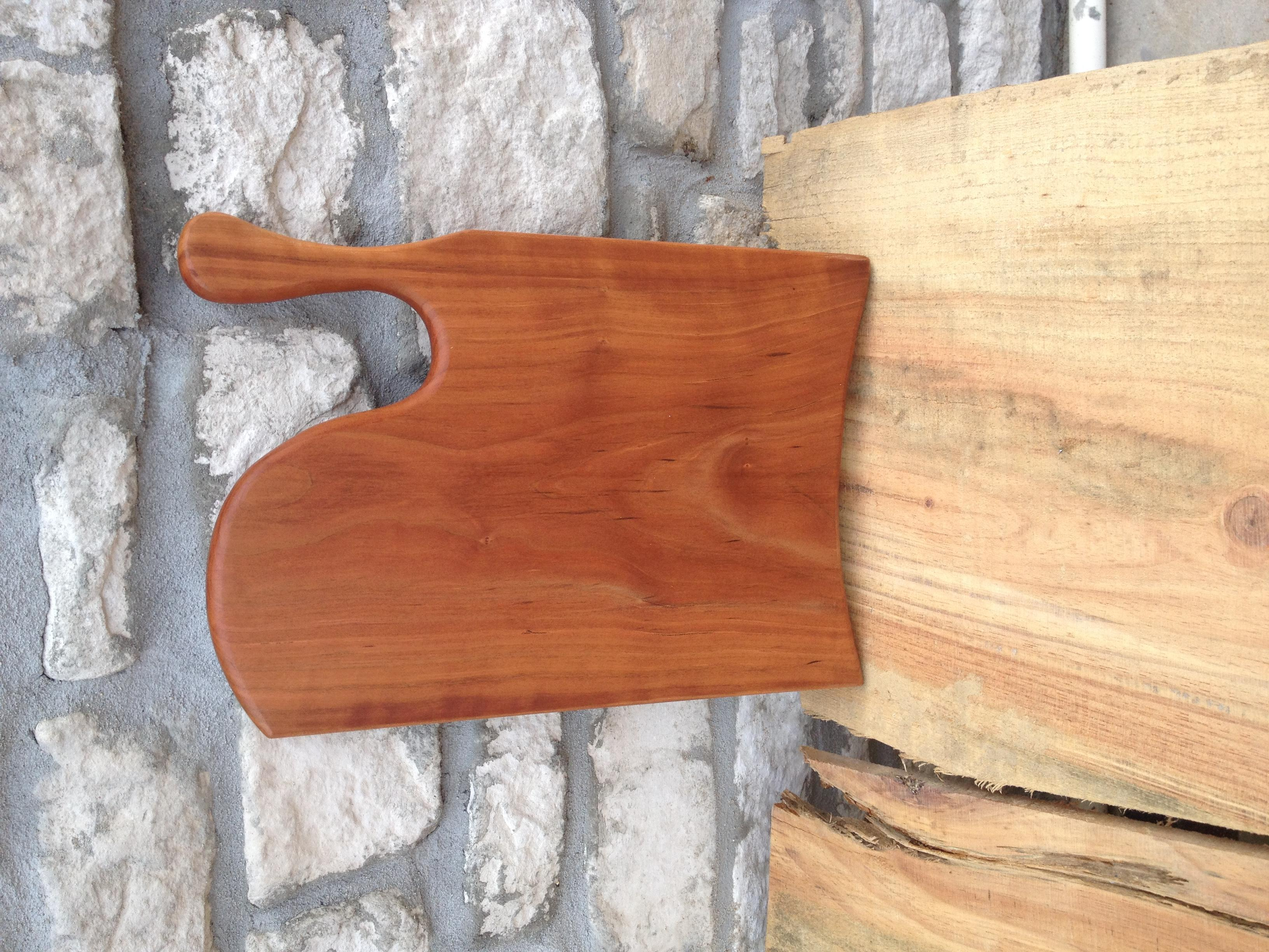gloved_hand: (187, 156, 809, 892)
